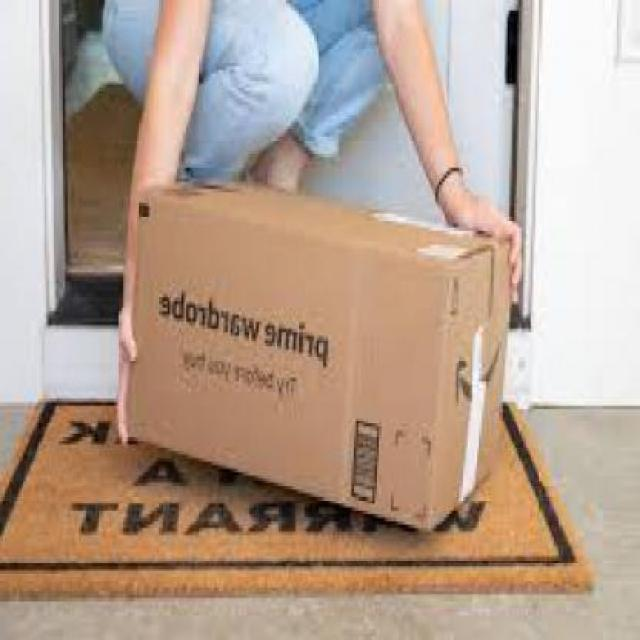cardboxes: (117, 173, 518, 542)
